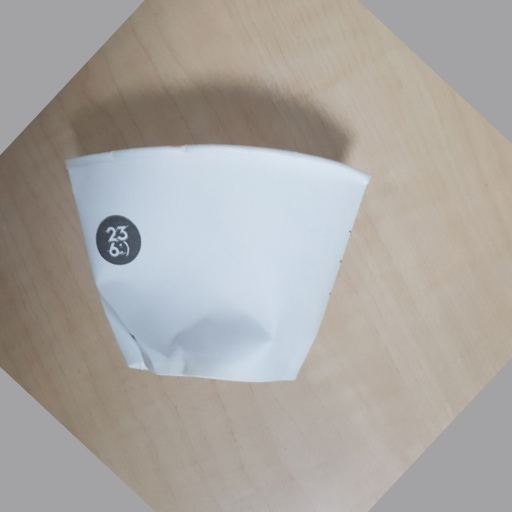Paper_1: (60, 140, 373, 385)
